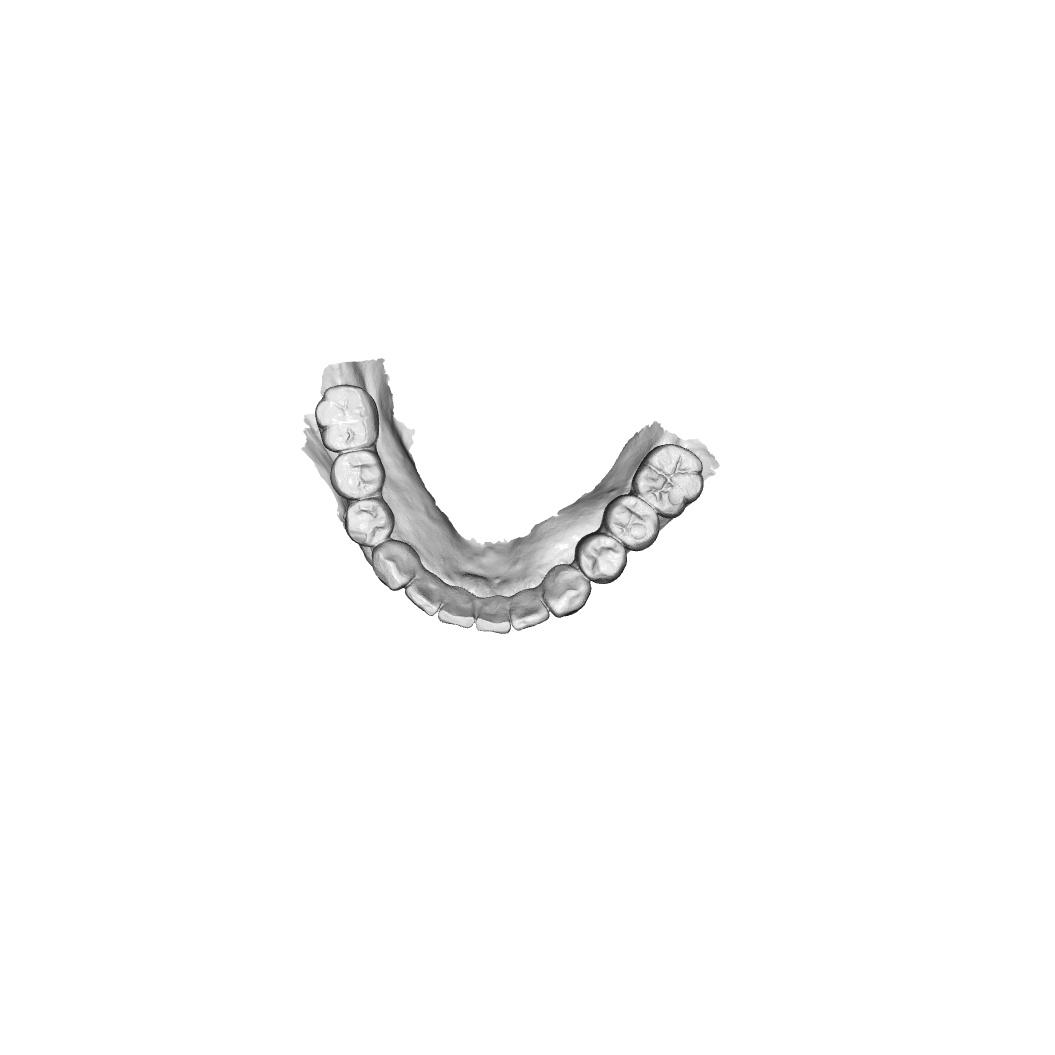canine: (539, 562, 592, 618), (371, 539, 421, 592)
incisor: (404, 570, 445, 617), (437, 586, 479, 629), (510, 589, 550, 632), (474, 594, 512, 635)
molar: (629, 442, 707, 521), (312, 383, 382, 453)
premolar: (601, 492, 660, 552), (573, 531, 628, 585), (328, 449, 386, 500), (344, 497, 395, 548)
